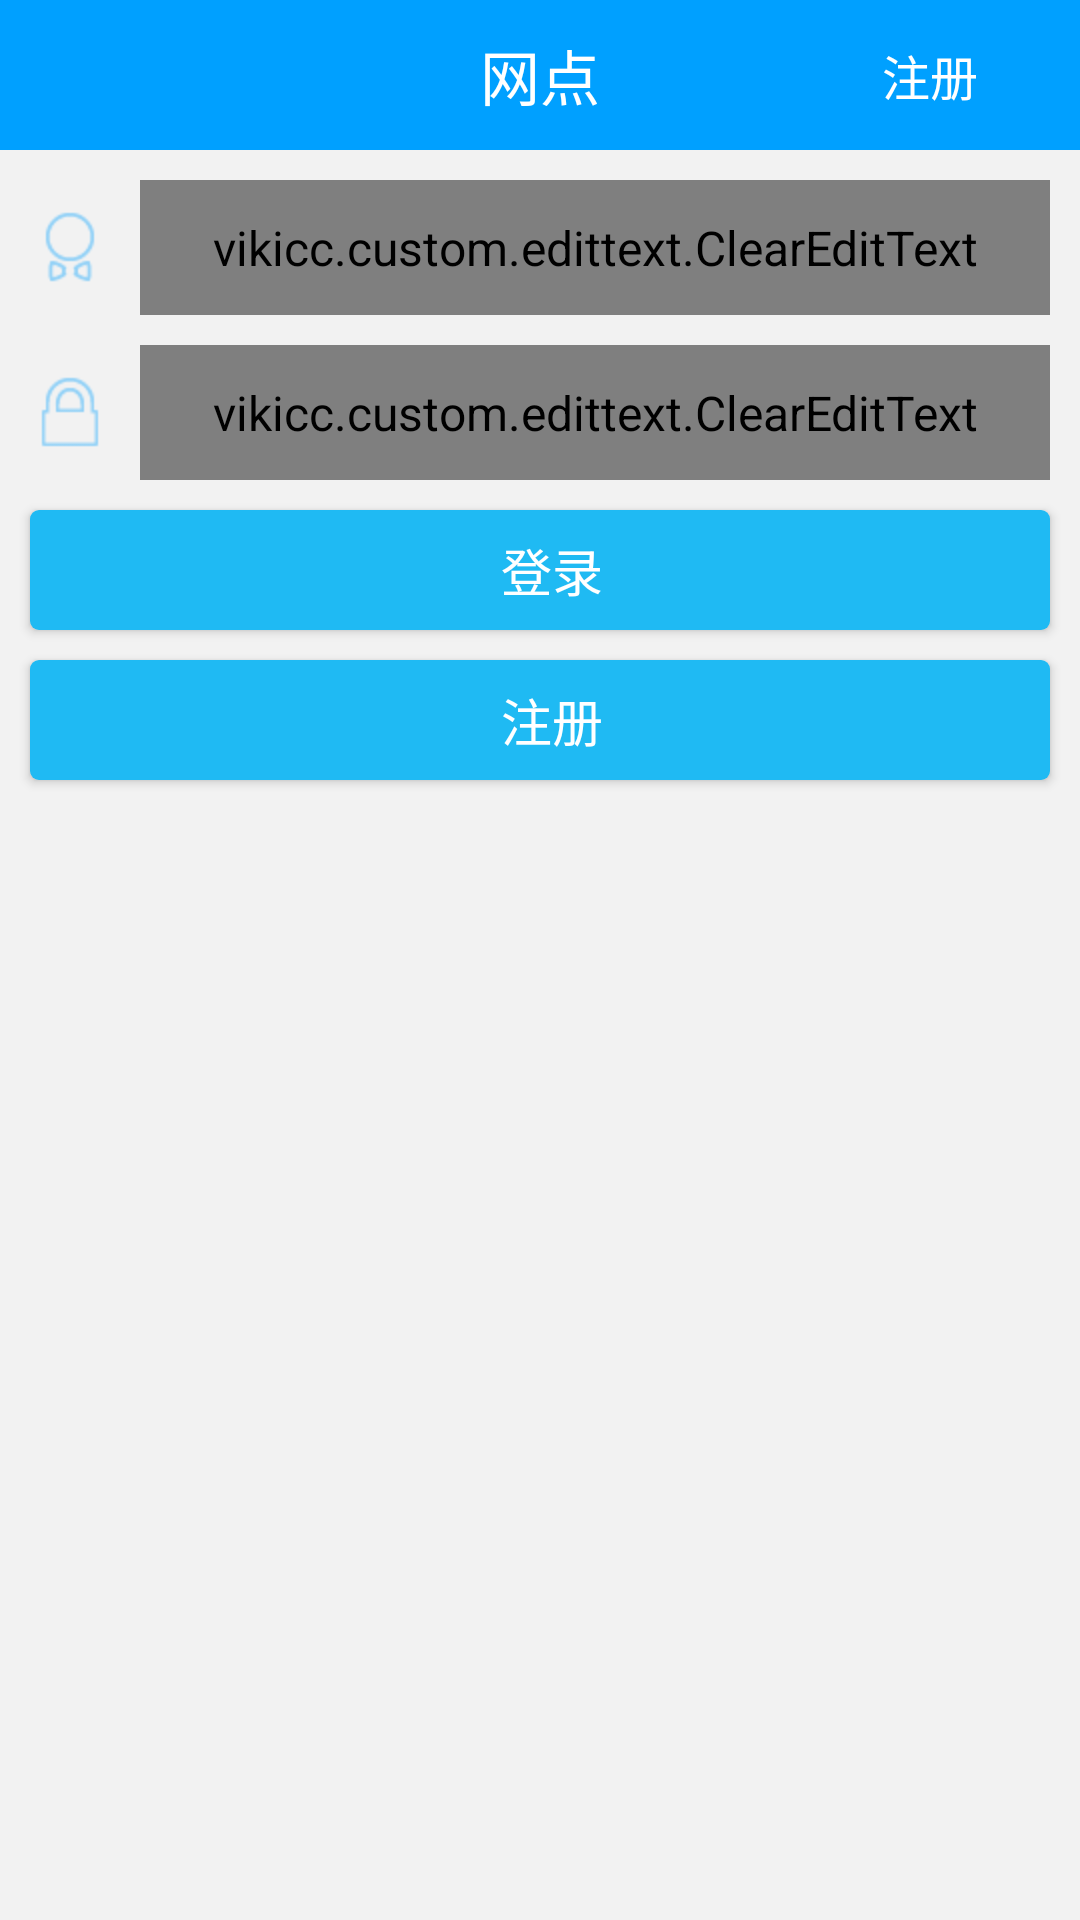

Icons on this 1080*1920 Android screen, each with the point to tap as (x=x, y=y):
login name: (x=70, y=247)
login pwd: (x=70, y=412)
